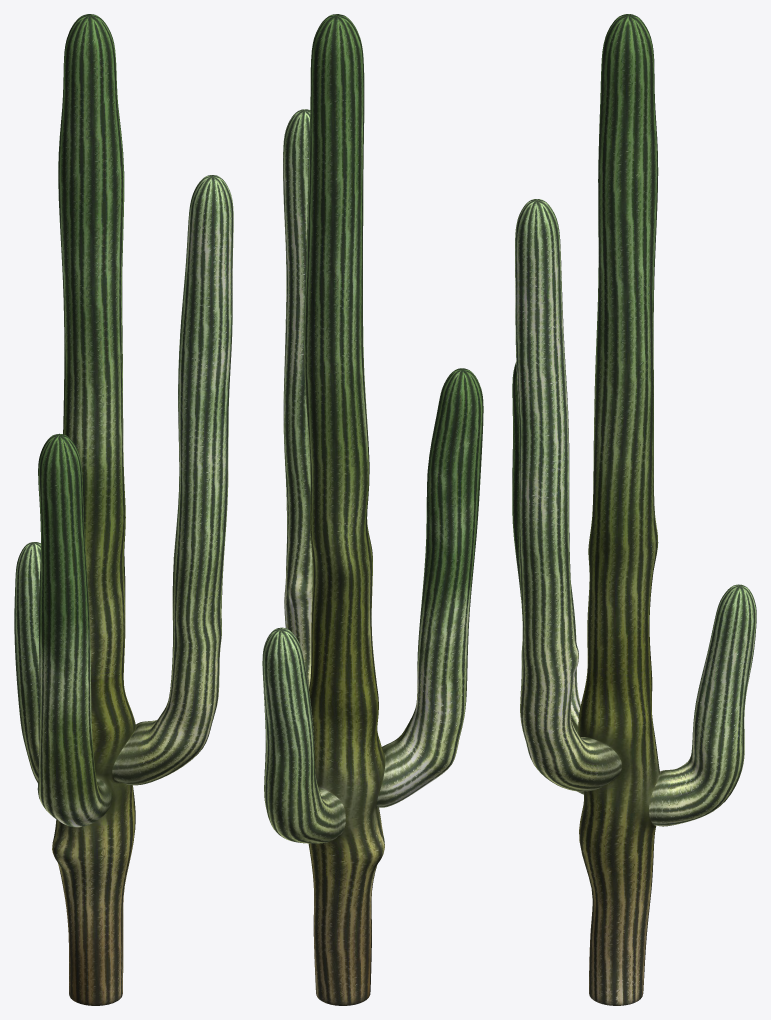
The model's file is Cactus1.fbx.
3 views of the same model, side by side, from view 1: azimuth 30°, elevation 25°; view 2: azimuth 150°, elevation 25°; view 3: azimuth 270°, elevation 25° (orthographic).
Visible parts, largest first — view 1: Cactus_1; view 2: Cactus_1; view 3: Cactus_1.
Part boxes in pixels (x1,y1,x2,y2): Cactus_1: (14, 14, 233, 1005); Cactus_1: (262, 14, 483, 1005); Cactus_1: (512, 14, 756, 1005).
Size of the model in its own units: 1538 by 7493 by 1695.
